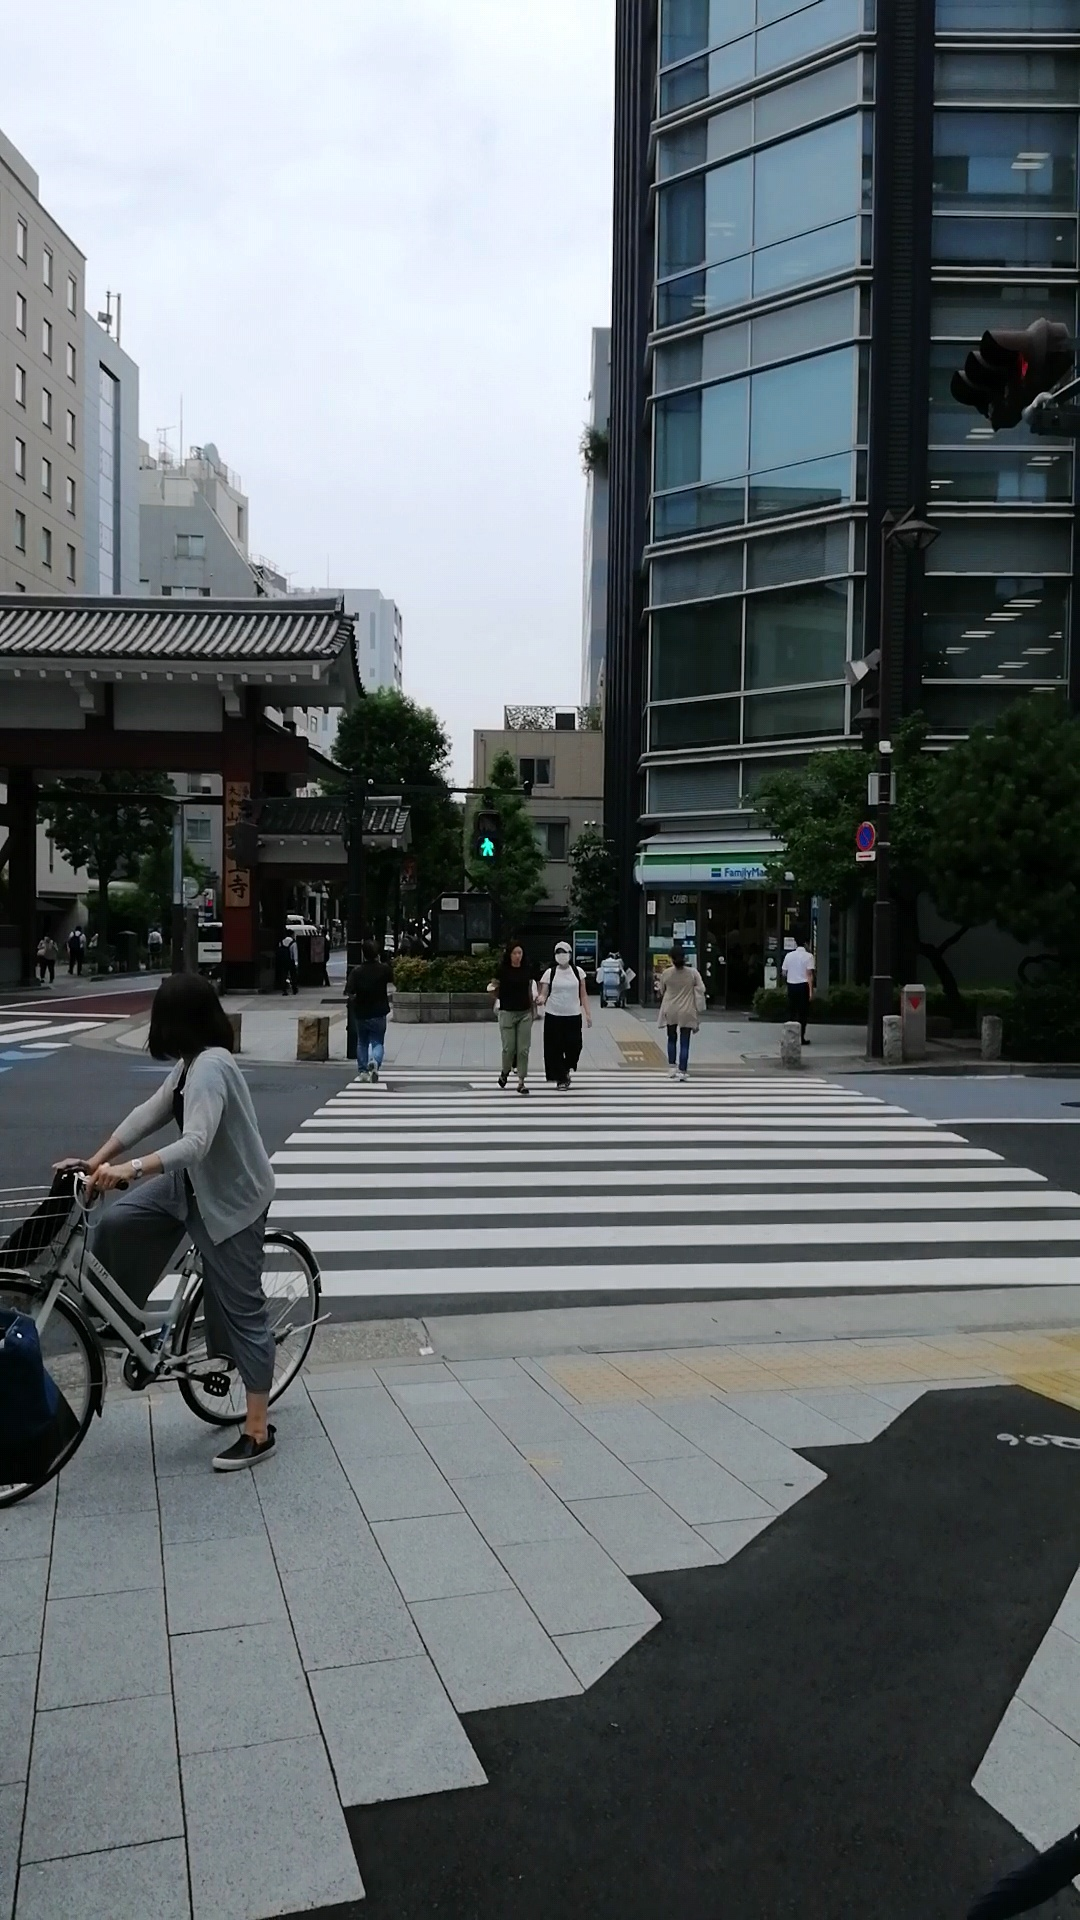green: (473, 812, 502, 865)
